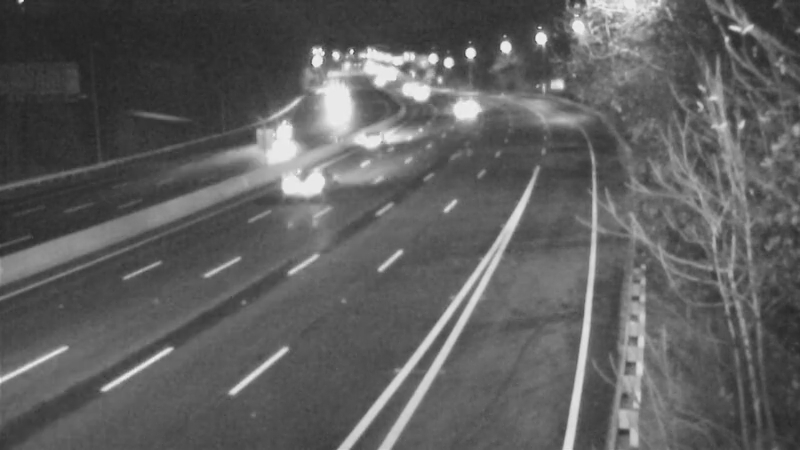vehicle: (268, 141, 348, 221), (383, 63, 433, 113), (391, 69, 441, 119), (439, 81, 489, 131), (345, 113, 395, 163), (257, 113, 307, 163), (313, 79, 363, 129)
